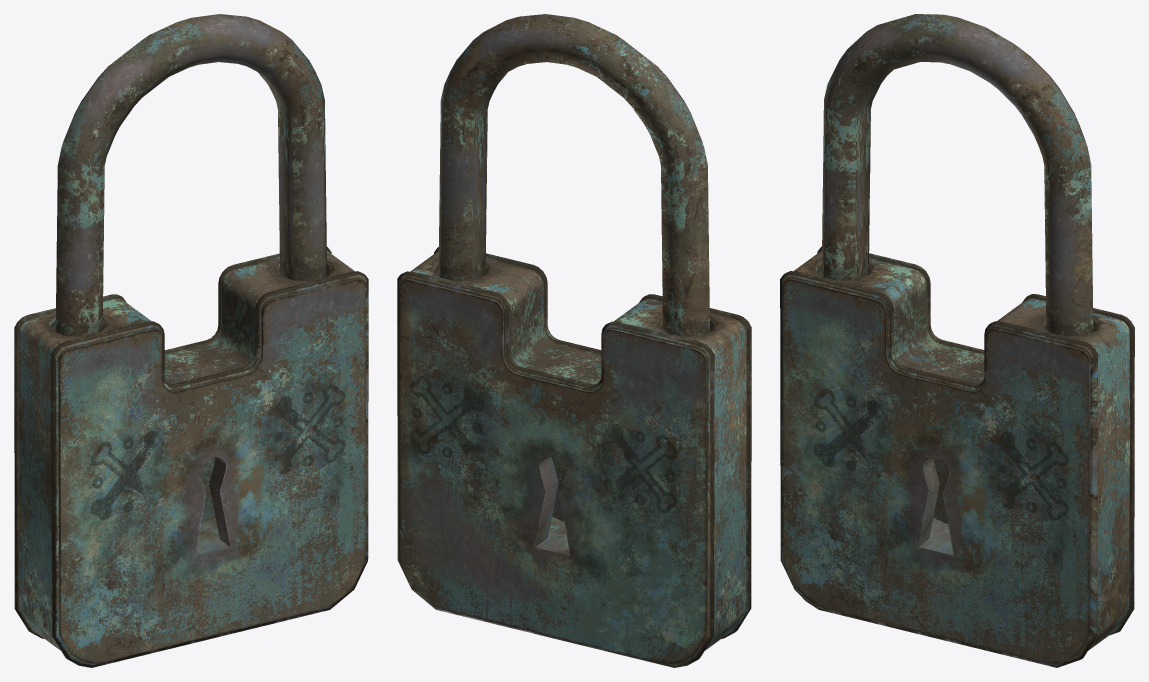
File: lock.fbx
3 views of the same model, side by side, from view 1: azimuth 30°, elevation 25°; view 2: azimuth 150°, elevation 25°; view 3: azimuth 330°, elevation 25° (orthographic).
Parts seen in each view (by area): view 1: Boole; view 2: Boole; view 3: Boole.
Part boxes in pixels (x1,y1,x2,y2): Boole: [14, 14, 368, 667]; Boole: [397, 14, 751, 667]; Boole: [780, 14, 1134, 667].
Size of the model in its own units: 20.58 by 37.78 by 4.87.
1 material, 1 textured.
